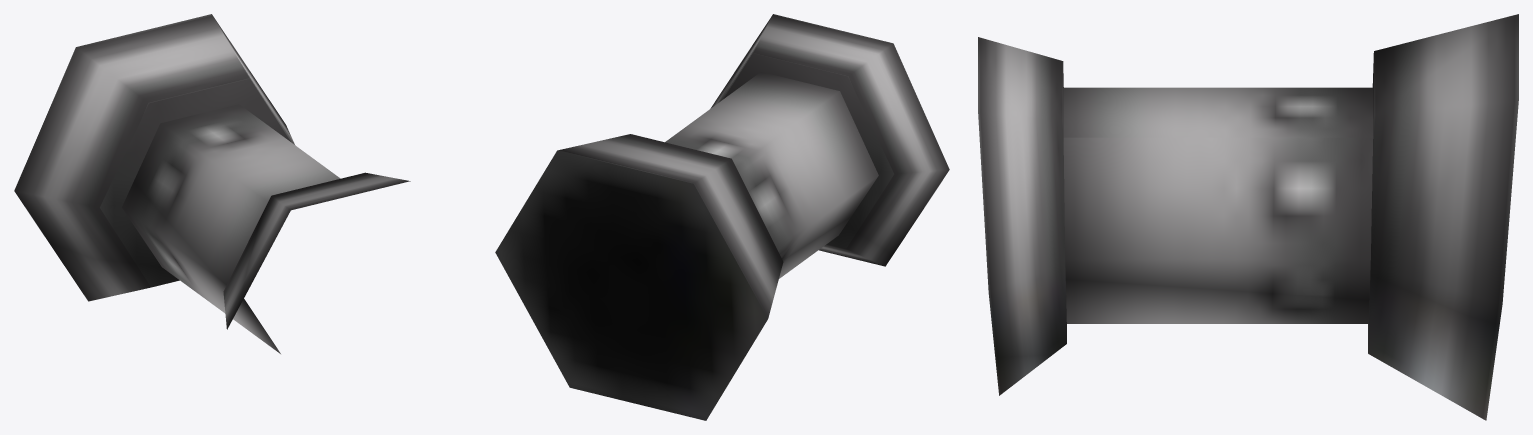
File: acc_29.glb
3 renders of one model, left to right at view 1: azimuth 30°, elevation 25°; view 2: azimuth 150°, elevation 25°; view 3: azimuth 270°, elevation 25°, orthographic. The views are drawn at different scales.
Visible parts, largest first — view 1: vertex, accessory_rear_ww_2; view 2: vertex, accessory_rear_ww_2; view 3: vertex, accessory_rear_ww_2.
Boxes of the visible parts, x1,y1,x2,y2 form: vertex: (14, 14, 410, 329); accessory_rear_ww_2: (122, 104, 340, 353); vertex: (495, 14, 949, 420); accessory_rear_ww_2: (665, 72, 878, 278); vertex: (978, 14, 1518, 420); accessory_rear_ww_2: (1063, 87, 1373, 323).
Size of the model in its own units: 0.2993 by 0.2581 by 0.3948.
Materials: 1 (1 with a texture image).
